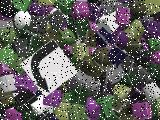Left: (20, 39, 78, 97)
